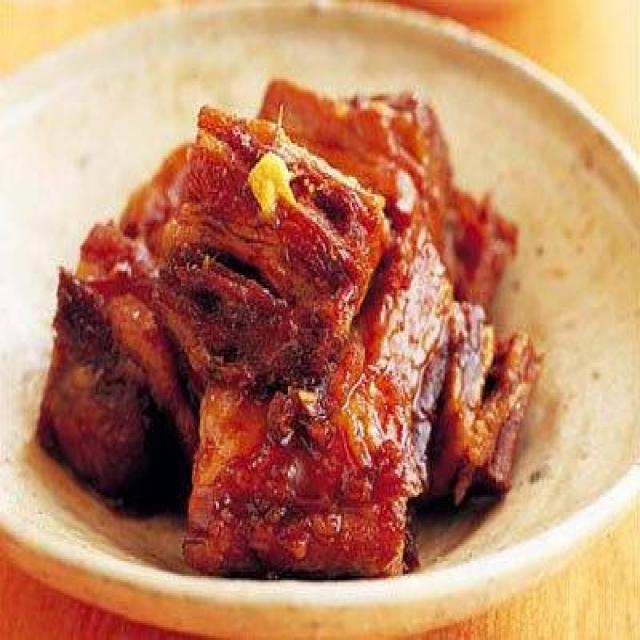猪肉菜式: (34, 64, 563, 578)
